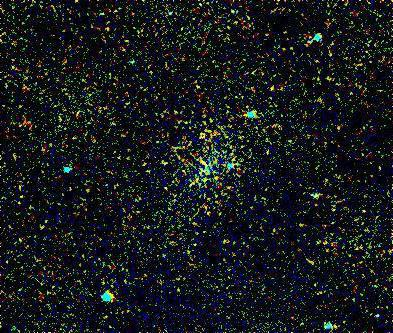star: (190, 119, 220, 149)
